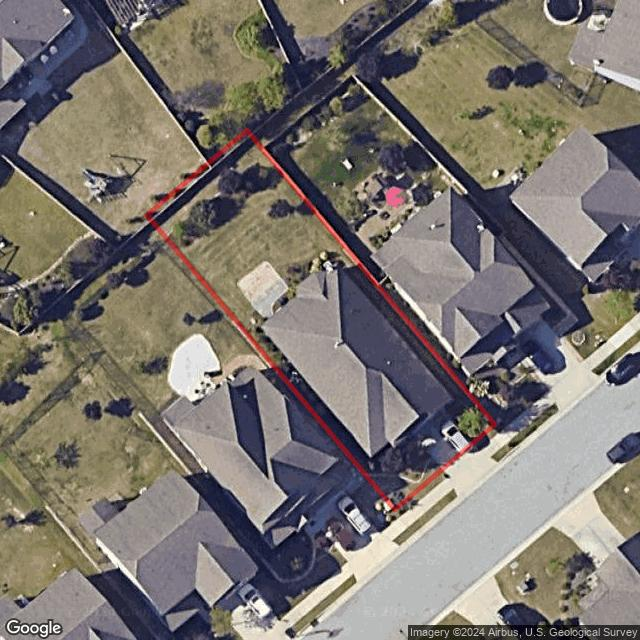Driveway: (412, 408, 474, 469)
Extra-Driveway: (442, 442, 497, 494)
Extra-Lawn: (395, 471, 447, 519), (408, 487, 460, 535), (490, 441, 517, 466), (477, 425, 503, 449)
Extra-Sidewalk: (399, 476, 455, 529), (482, 432, 510, 458)
House: (263, 266, 454, 458)
Lawn: (148, 131, 495, 509)
Other: (363, 436, 431, 485), (235, 259, 289, 320), (306, 249, 347, 273)
